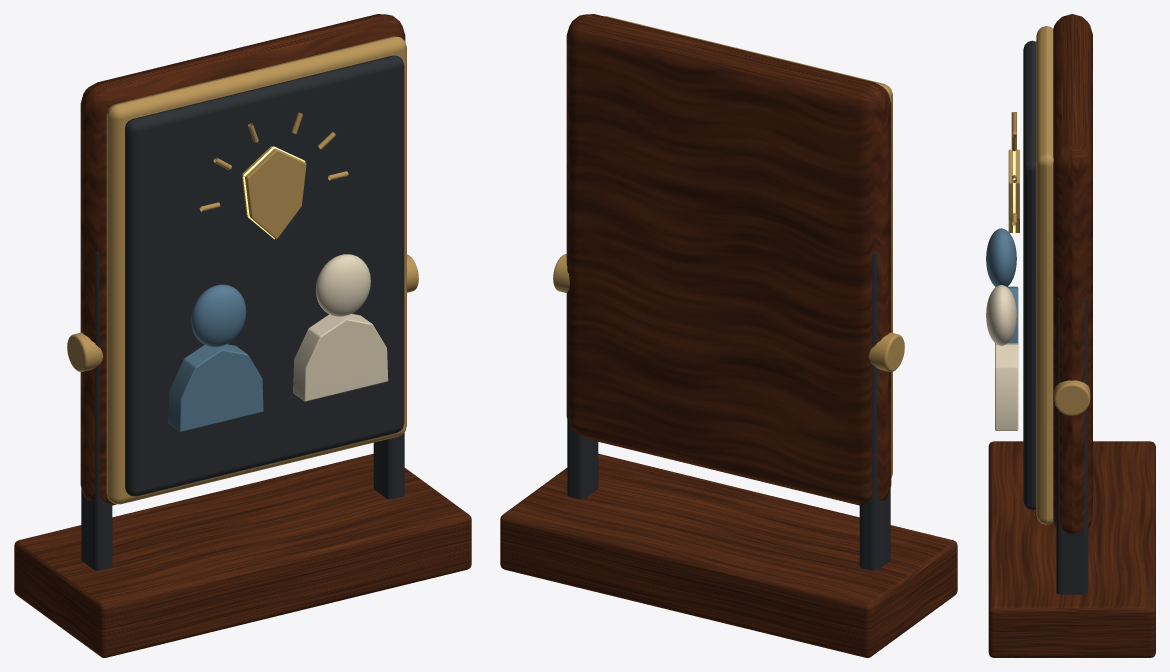
Rendered from escritorio_painel_protecao.glb.
The picture shows the model from 3 angles, left to right: view 1: azimuth 30°, elevation 25°; view 2: azimuth 150°, elevation 25°; view 3: azimuth 270°, elevation 25°; orthographic projection. The views are drawn at different scales.
Visible parts, largest first — view 1: painel_protecao; view 2: painel_protecao; view 3: painel_protecao.
Boxes of the visible parts, x1=… form: painel_protecao: x1=14, y1=14, x2=471, y2=657; painel_protecao: x1=500, y1=14, x2=957, y2=657; painel_protecao: x1=986, y1=14, x2=1155, y2=657.
Bounding box in the file's own units: 0.31 × 0.425 × 0.132.
6 materials, 1 textured.
